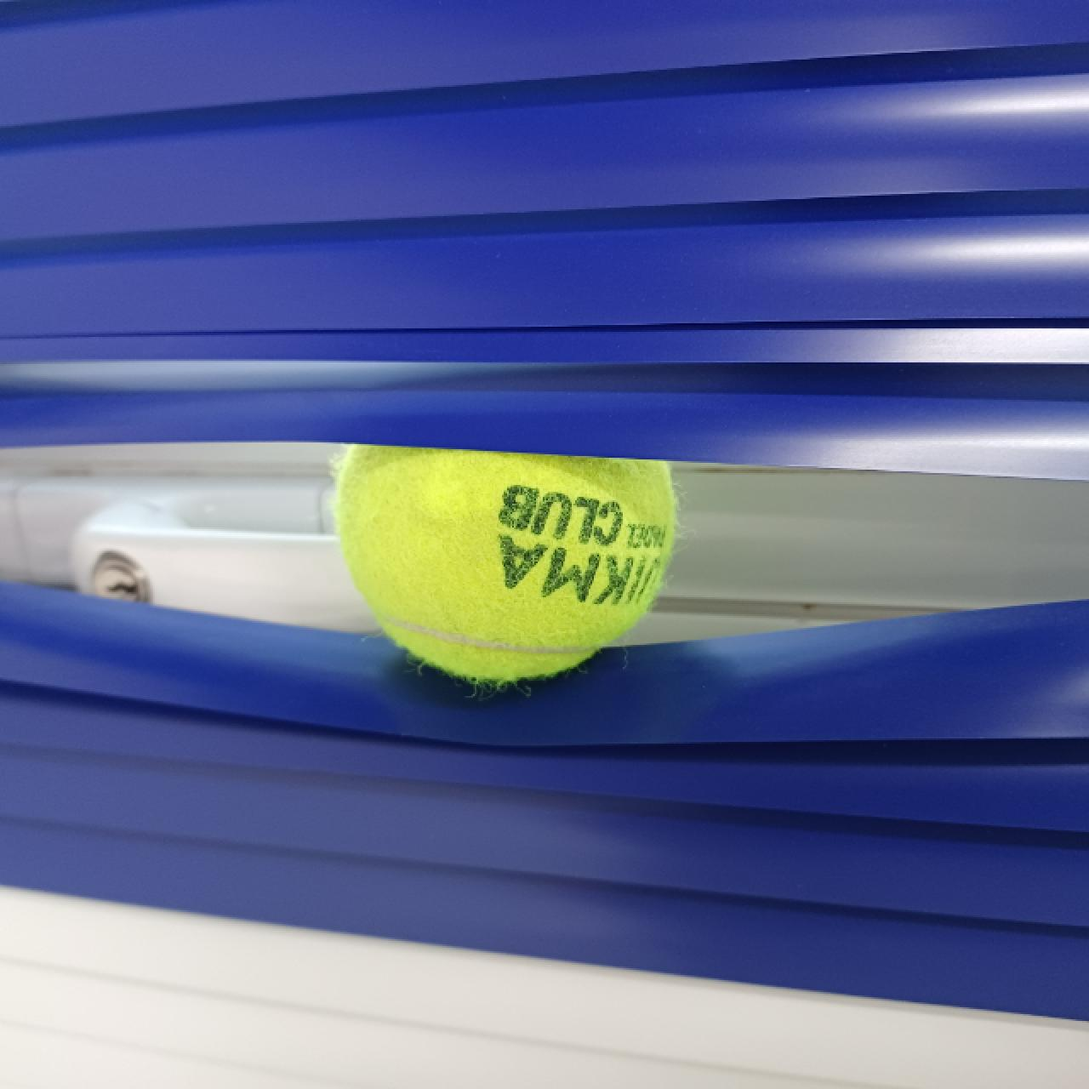tennis-ball: (329, 362, 679, 685)
